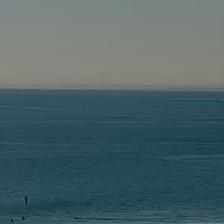surfer: (73, 216, 81, 220), (24, 196, 28, 202), (21, 216, 25, 220), (10, 218, 13, 223)
